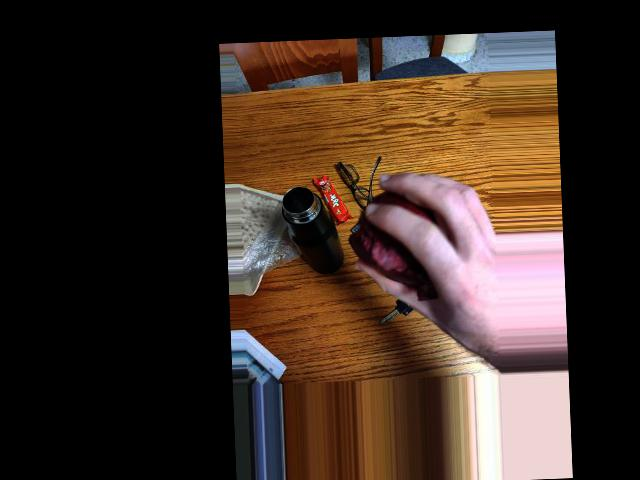onion: (354, 186, 436, 276)
